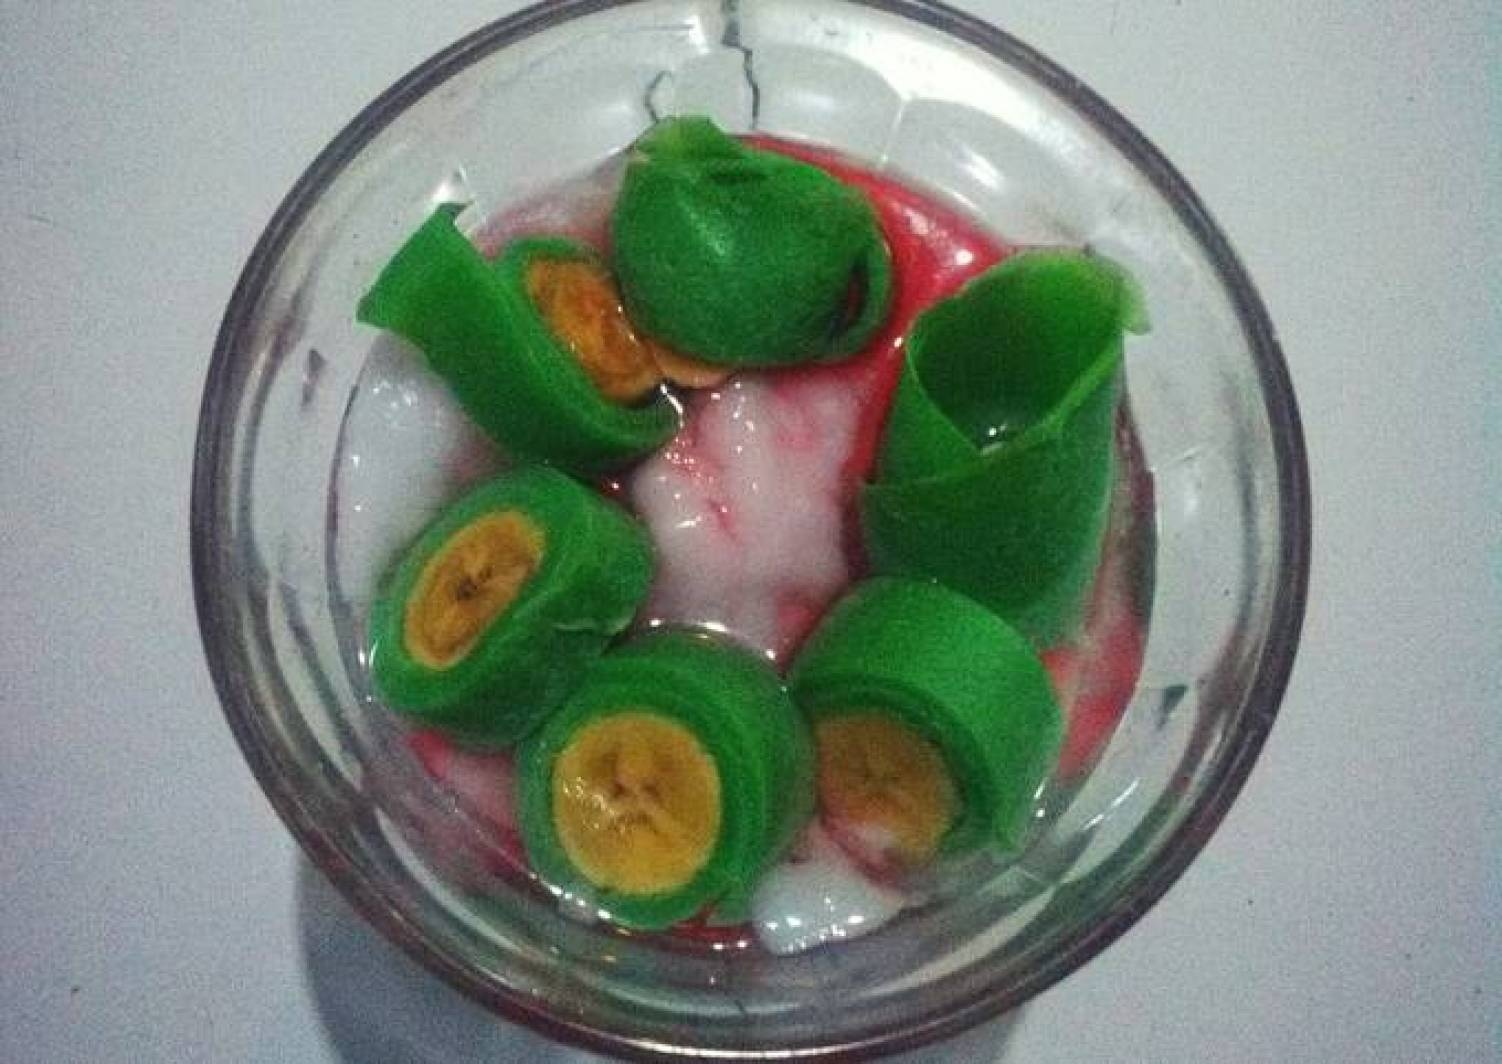pisang_ijo: (505, 625, 807, 940)
